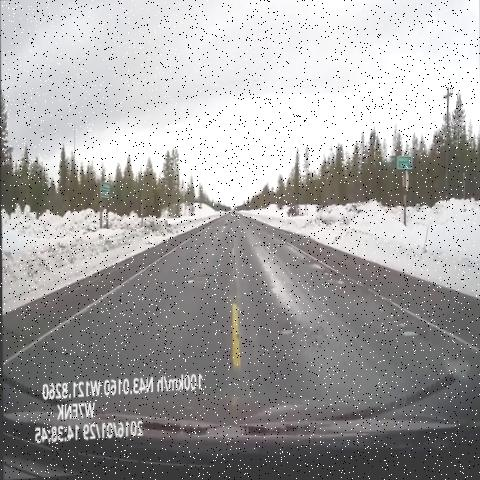pothole: (382, 306, 424, 362), (268, 305, 306, 353), (311, 254, 348, 301), (180, 258, 219, 301), (216, 215, 235, 246)
